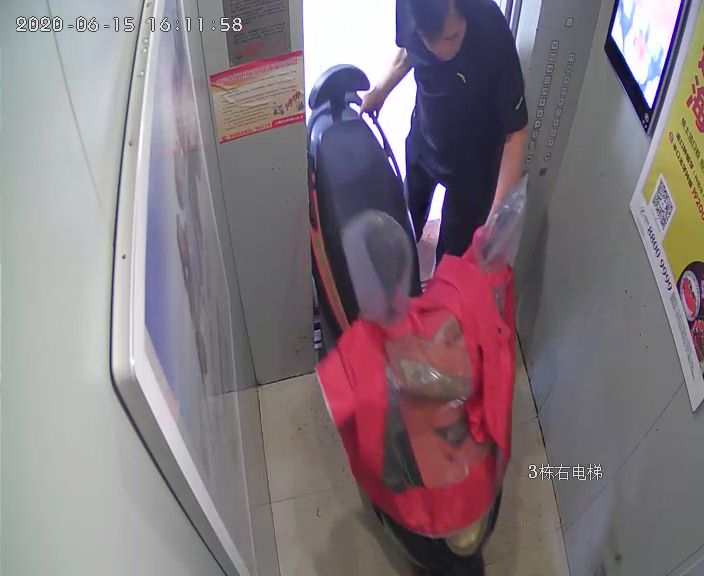Electric-bicycle: (310, 61, 530, 571)
